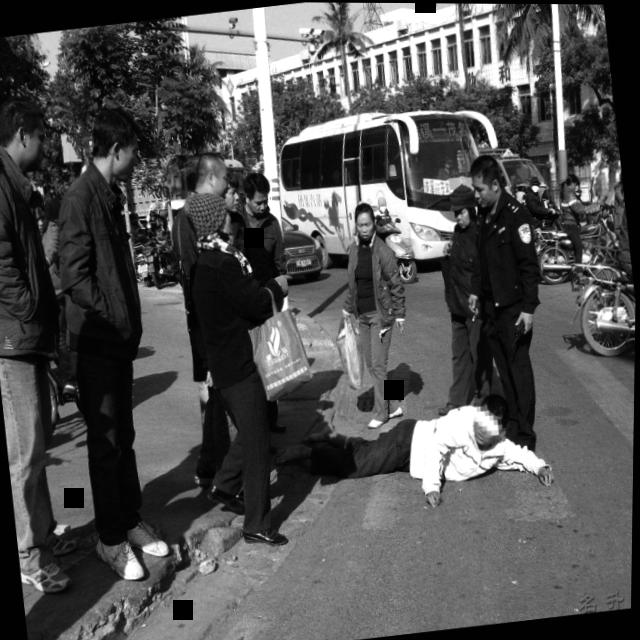Fall-Detected: (272, 373, 549, 524)
